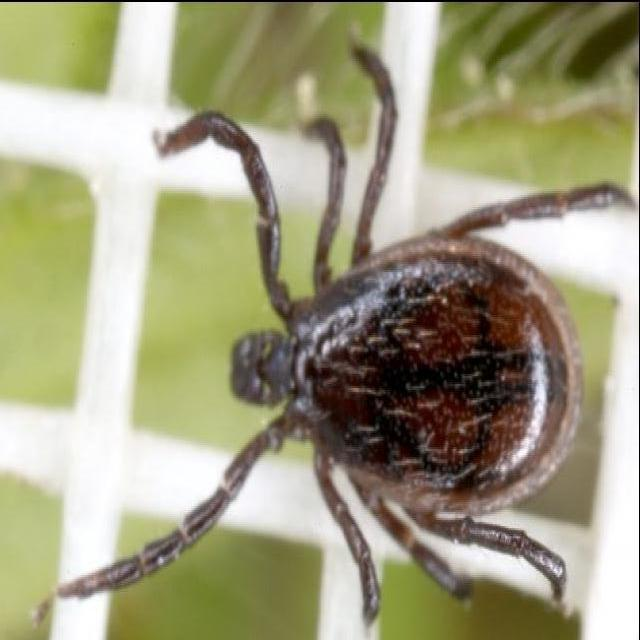Ixodes Ricinus-M: (62, 41, 632, 628)
